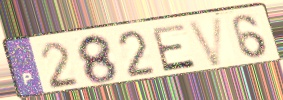2: (116, 29, 158, 80), (39, 40, 81, 91)
6: (231, 13, 270, 62)
8: (74, 32, 121, 86)
E: (149, 21, 198, 73)
V: (185, 14, 226, 69)
